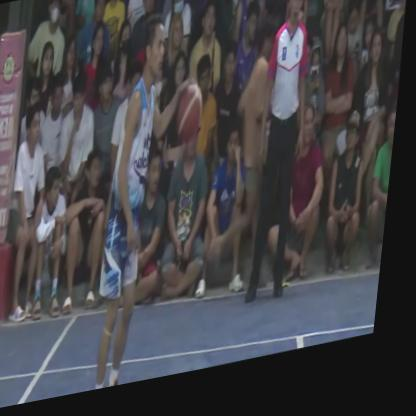basketball: (176, 84, 208, 160)
